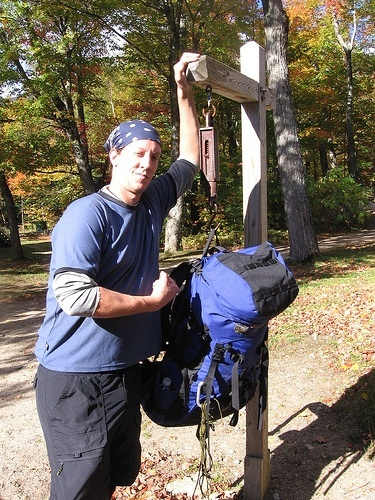head: (102, 116, 168, 202)
person: (26, 66, 201, 483)
